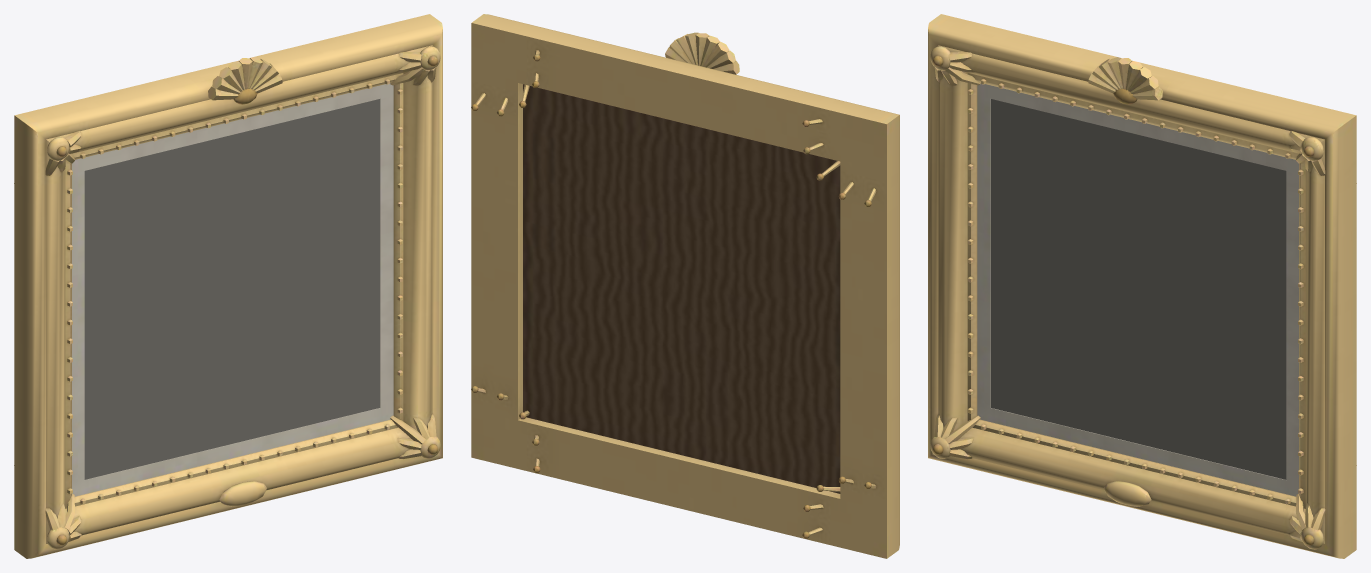
Rendered from painting.glb.
The picture shows the model from 3 angles, left to right: view 1: azimuth 30°, elevation 25°; view 2: azimuth 150°, elevation 25°; view 3: azimuth 330°, elevation 25°; orthographic projection.
Parts seen in each view (by area): view 1: body, canvas; view 2: body; view 3: body, canvas.
Boxes of the visible parts, left/top/right/bottom form: body: left=14, top=14, right=442, bottom=558; canvas: left=84, top=99, right=379, bottom=479; body: left=471, top=14, right=899, bottom=558; body: left=928, top=14, right=1356, bottom=558; canvas: left=991, top=99, right=1286, bottom=479.
Size of the model in its own units: 3.75 by 3.94 by 0.585.
2 materials, 1 textured.
